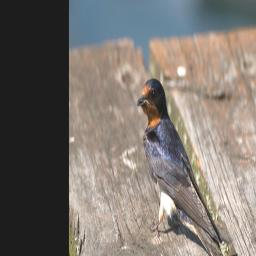Swallow: (136, 76, 238, 256)
